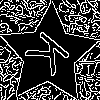K: (24, 29, 79, 84)
